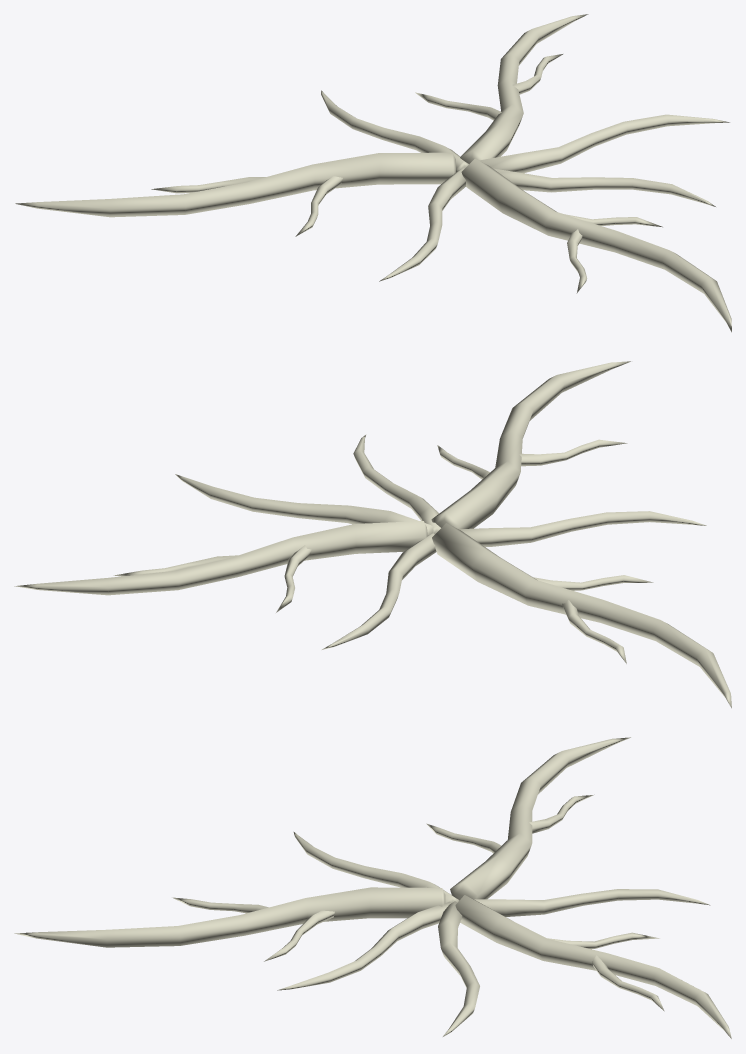
File: roots_mushroom.glb
3 renders of one model, top to bottom at view 1: azimuth 30°, elevation 25°; view 2: azimuth 150°, elevation 25°; view 3: azimuth 270°, elevation 25°, orthographic. The views are drawn at different scales.
Parts seen in each view (by area): view 1: Roots; view 2: Roots; view 3: Roots.
Part boxes in pixels (x1,y1,x2,y2): Roots: [15, 14, 731, 332]; Roots: [14, 361, 731, 708]; Roots: [14, 737, 731, 1038].
Bounding box in the file's own units: 1.4 × 0.0602 × 1.4.
